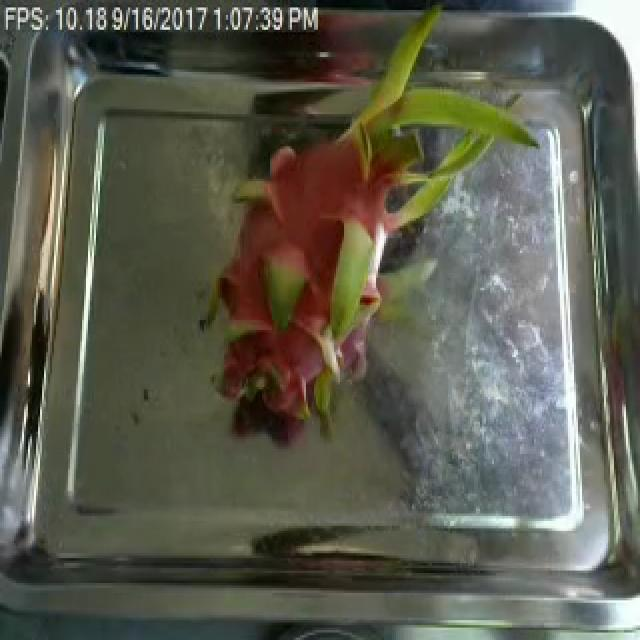fruit: (164, 44, 502, 457)
